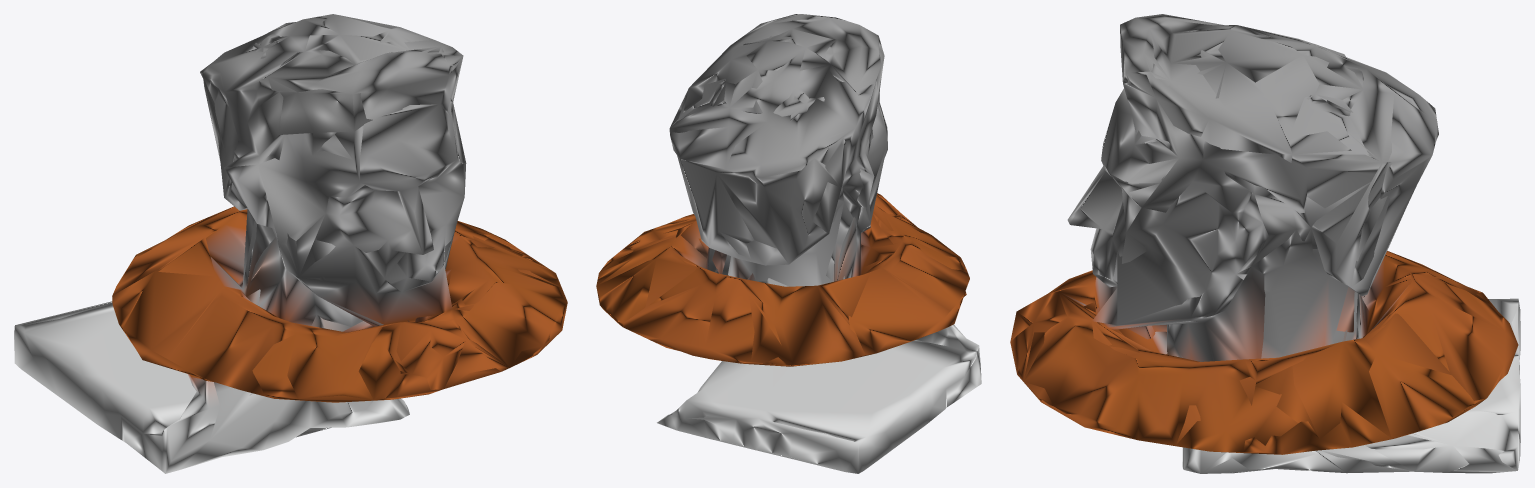
The model's file is gen3d-buried-statue-head-lod0.glb.
The picture shows the model from 3 angles, left to right: view 1: azimuth 30°, elevation 25°; view 2: azimuth 150°, elevation 25°; view 3: azimuth 270°, elevation 25°; orthographic projection. The views are drawn at different scales.
Parts seen in each view (by area): view 1: part_0; view 2: part_0; view 3: part_0.
Part boxes in pixels (x1,y1,x2,y2): part_0: (14, 14, 567, 473); part_0: (596, 14, 981, 473); part_0: (1010, 14, 1520, 473).
Size of the model in its own units: 1.09 by 0.9999 by 1.09.
